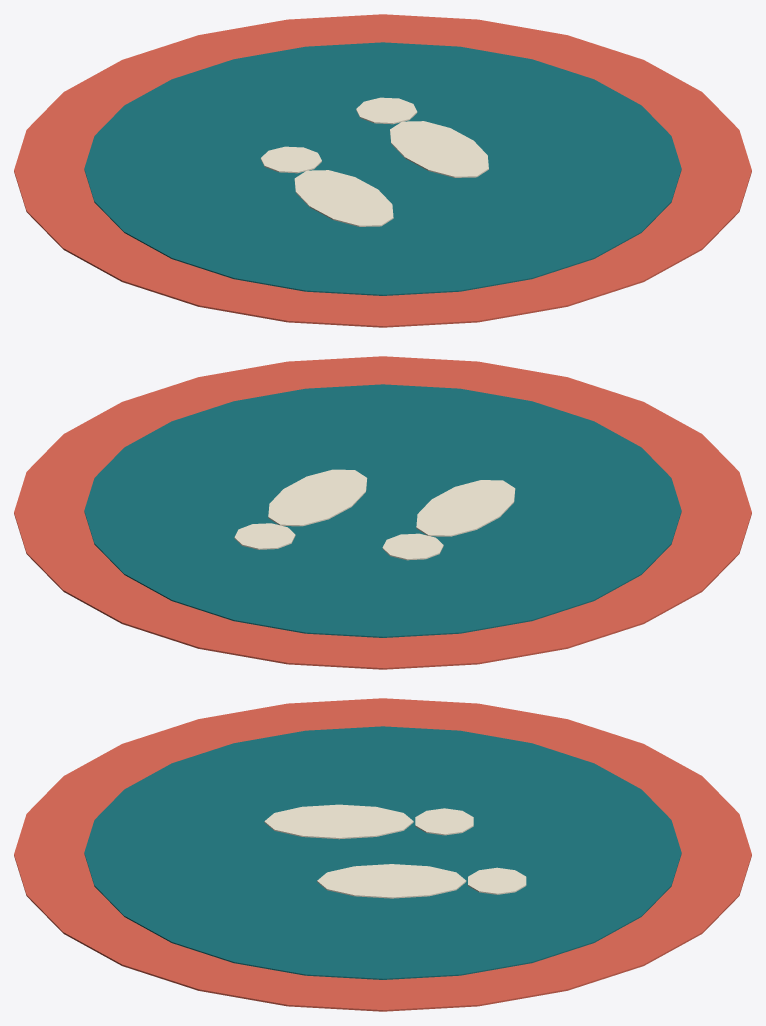
Rendered from queue_spot_marker.glb.
3 renders of one model, top to bottom at view 1: azimuth 30°, elevation 25°; view 2: azimuth 150°, elevation 25°; view 3: azimuth 270°, elevation 25°, orthographic.
Visible parts, largest first — view 1: queue_spot_marker; view 2: queue_spot_marker; view 3: queue_spot_marker.
Part boxes in pixels (x1,y1,x2,y2): queue_spot_marker: (14,14,751,327); queue_spot_marker: (14,356,751,669); queue_spot_marker: (14,698,751,1011).
Bounding box in the file's own units: 0.84 × 0.006 × 0.84.
